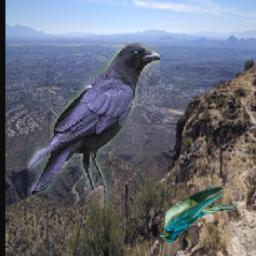Crow: (28, 43, 161, 209)
Swallow: (160, 187, 238, 243)
